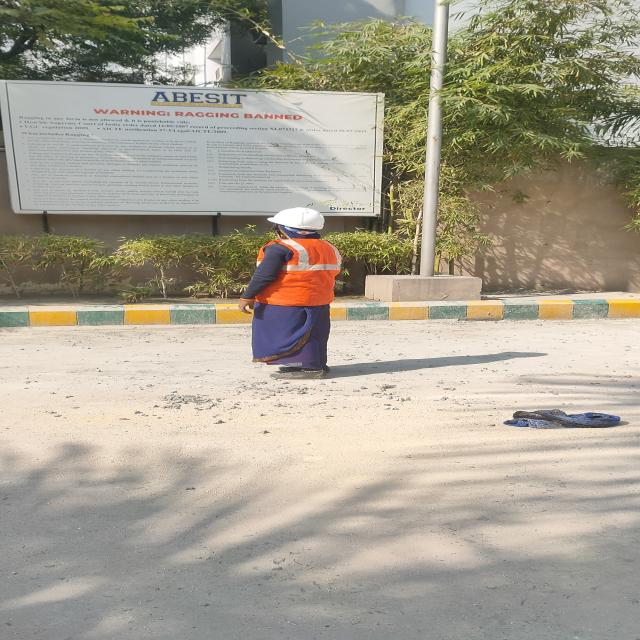safe: (238, 207, 341, 379)
